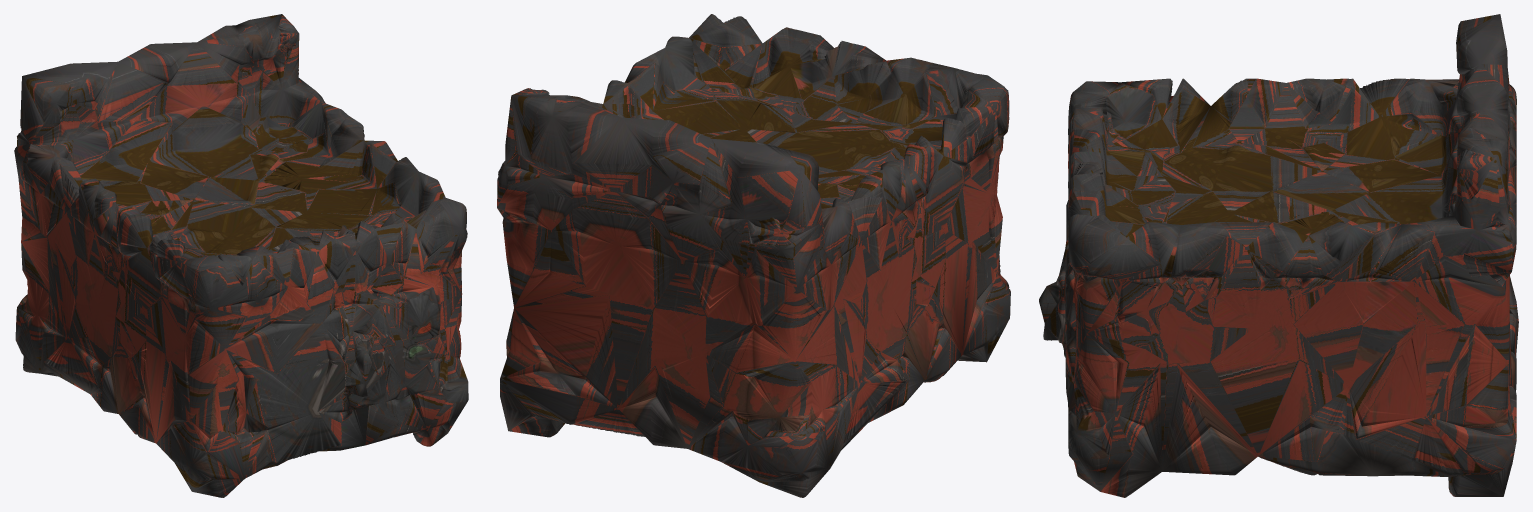
Rendered from FryerBodyBasin.glb.
3 renders of one model, left to right at view 1: azimuth 30°, elevation 25°; view 2: azimuth 150°, elevation 25°; view 3: azimuth 270°, elevation 25°, orthographic. The views are drawn at different scales.
Parts seen in each view (by area): view 1: FryerBodyBasin; view 2: FryerBodyBasin; view 3: FryerBodyBasin.
Boxes of the visible parts, <box> form: FryerBodyBasin: <box>14,14,468,497</box>; FryerBodyBasin: <box>497,14,1010,497</box>; FryerBodyBasin: <box>1039,14,1518,497</box>.
Bounding box in the file's own units: 1.46 × 1.49 × 1.9.
Materials: 1 (1 with a texture image).
